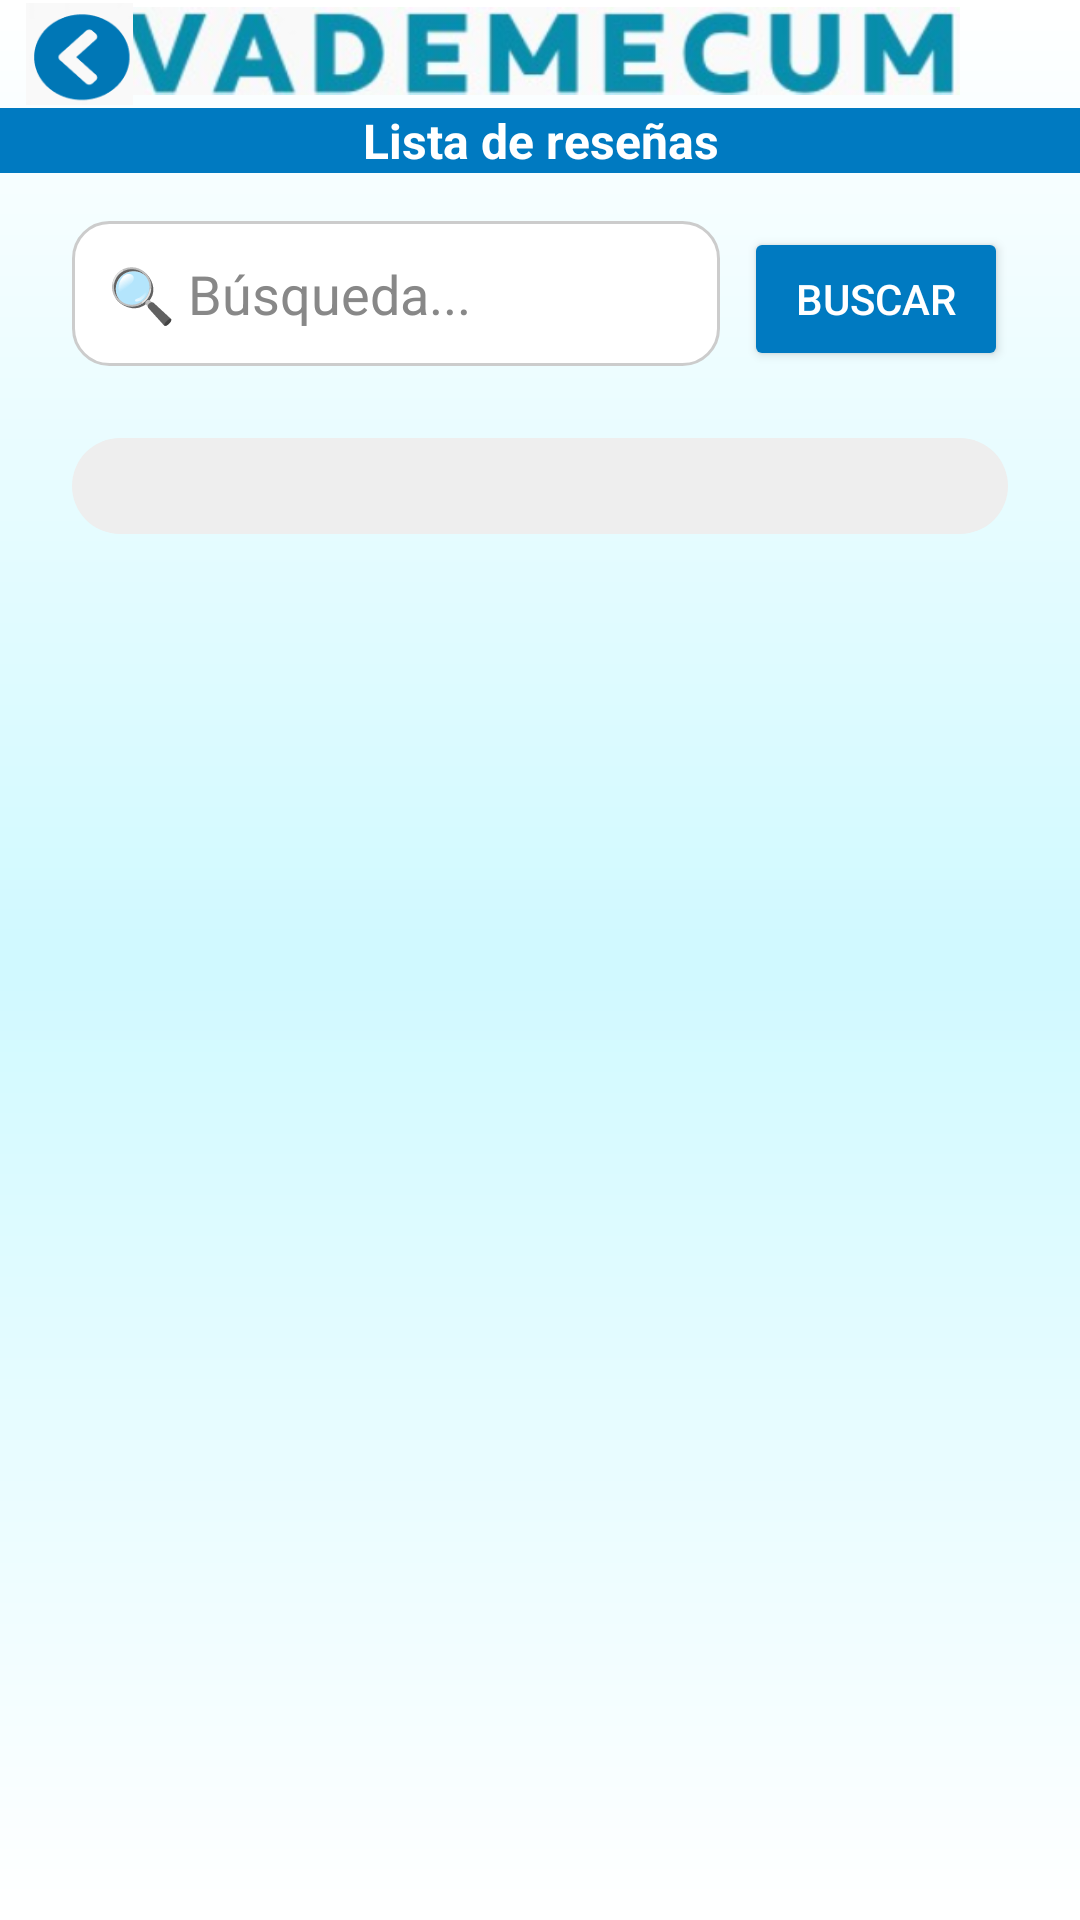

Icons on this 1080w x 1920h Android screen, each with the point to tap as (x=x, y=y):
imgatras: (x=82, y=57)
